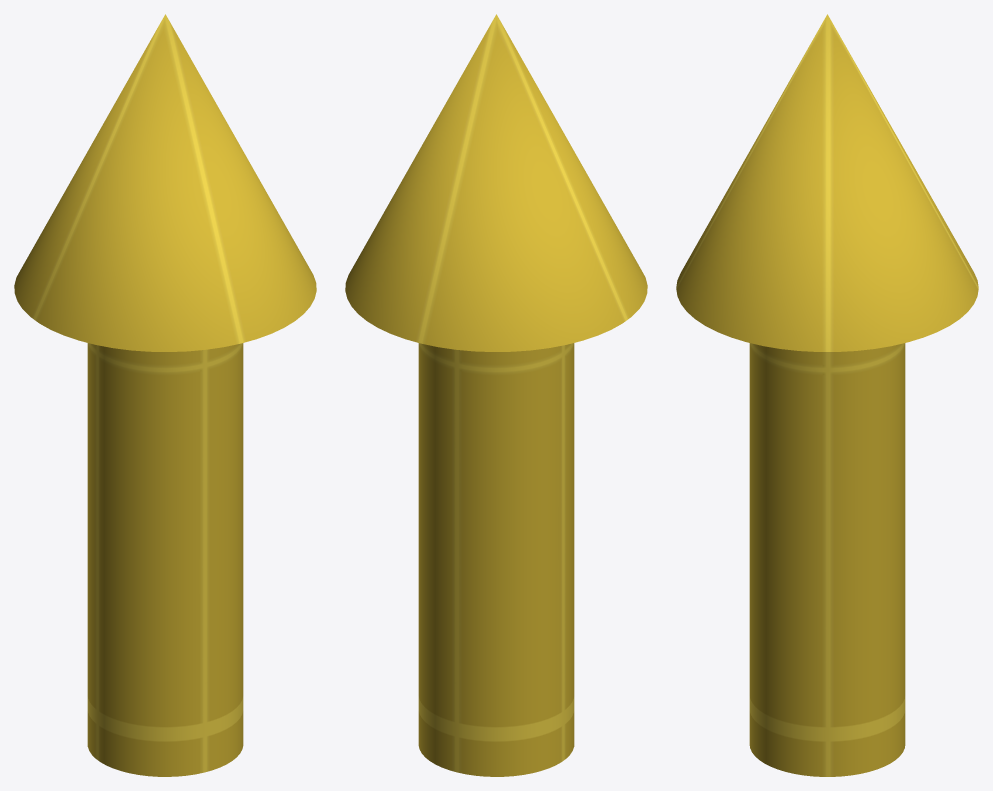
The model's file is Flecha.fbx.
3 renders of one model, left to right at view 1: azimuth 30°, elevation 25°; view 2: azimuth 150°, elevation 25°; view 3: azimuth 270°, elevation 25°, orthographic.
Visible parts, largest first — view 1: Flecha; view 2: Flecha; view 3: Flecha.
Part boxes in pixels (<box>): Flecha: <box>14,14,316,776</box>; Flecha: <box>345,14,647,776</box>; Flecha: <box>676,14,978,776</box>.
Bounding box in the file's own units: 200 × 532 × 200.
Materials: 1 (1 with a texture image).
